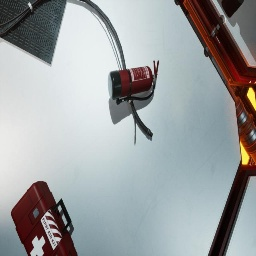FireExtinguisher ]: (108, 60, 159, 106)
FirstAidBox ,: (11, 181, 77, 256), (179, 0, 184, 3)
